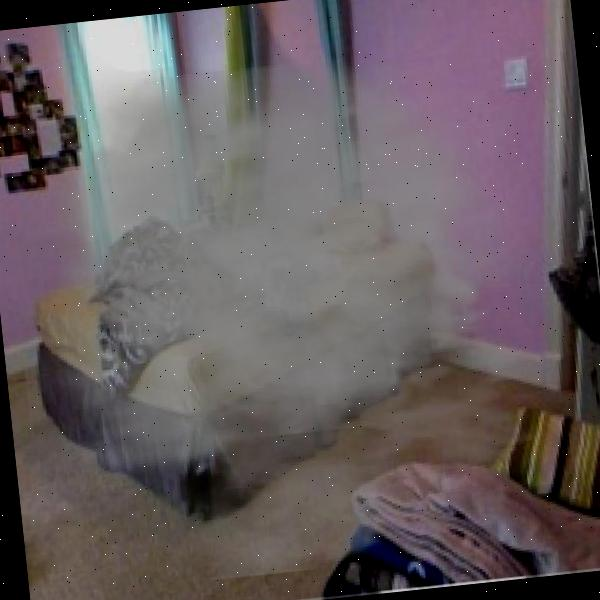smoke: (0, 4, 600, 597)
